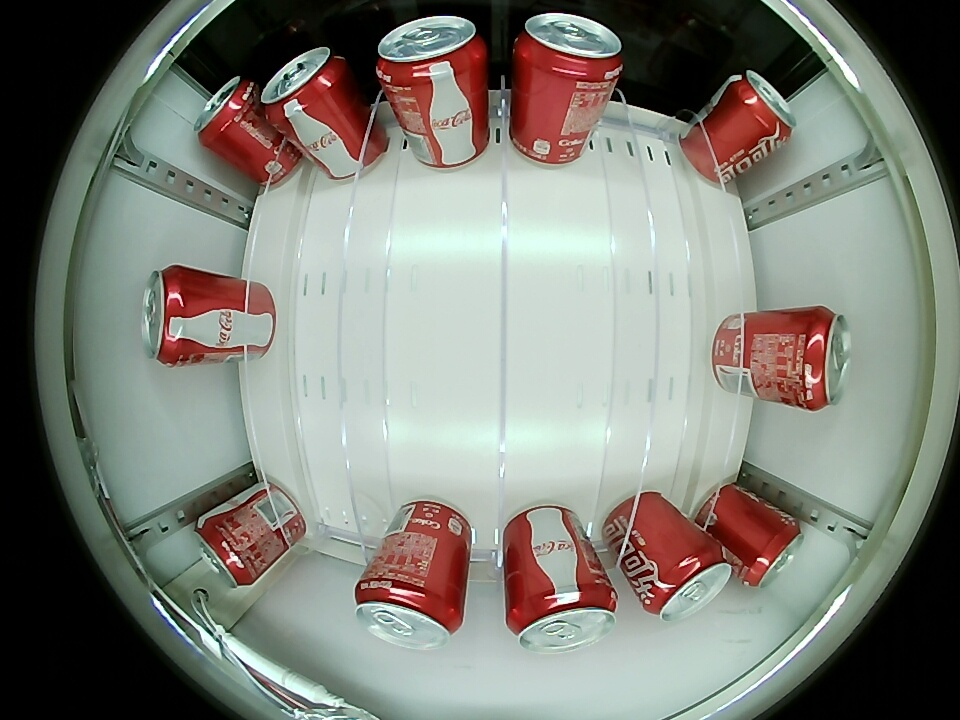kele: (355, 574, 463, 650), (375, 16, 487, 88), (508, 585, 618, 654), (514, 14, 623, 83), (642, 547, 732, 622), (262, 47, 350, 123), (792, 308, 851, 411), (143, 265, 200, 367), (727, 71, 797, 147), (195, 509, 258, 587), (194, 75, 260, 149), (742, 516, 803, 588)
